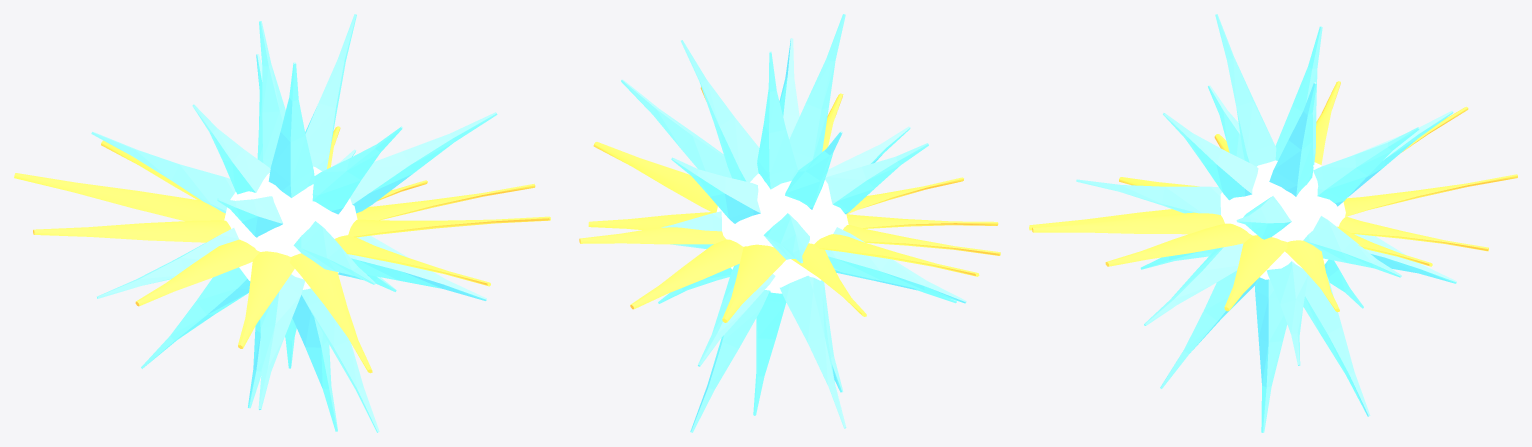
File: fx_burst_l.glb
3 views of the same model, side by side, from view 1: azimuth 30°, elevation 25°; view 2: azimuth 150°, elevation 25°; view 3: azimuth 270°, elevation 25° (orthographic). The views are drawn at different scales.
Parts seen in each view (by area): view 1: radial-impact-burst-large; view 2: radial-impact-burst-large; view 3: radial-impact-burst-large.
Part boxes in pixels (bbox=[...]): radial-impact-burst-large: bbox=[14, 14, 550, 432]; radial-impact-burst-large: bbox=[579, 14, 1000, 432]; radial-impact-burst-large: bbox=[1029, 14, 1517, 432].
Size of the model in its own units: 1.64 by 1.42 by 1.62.
